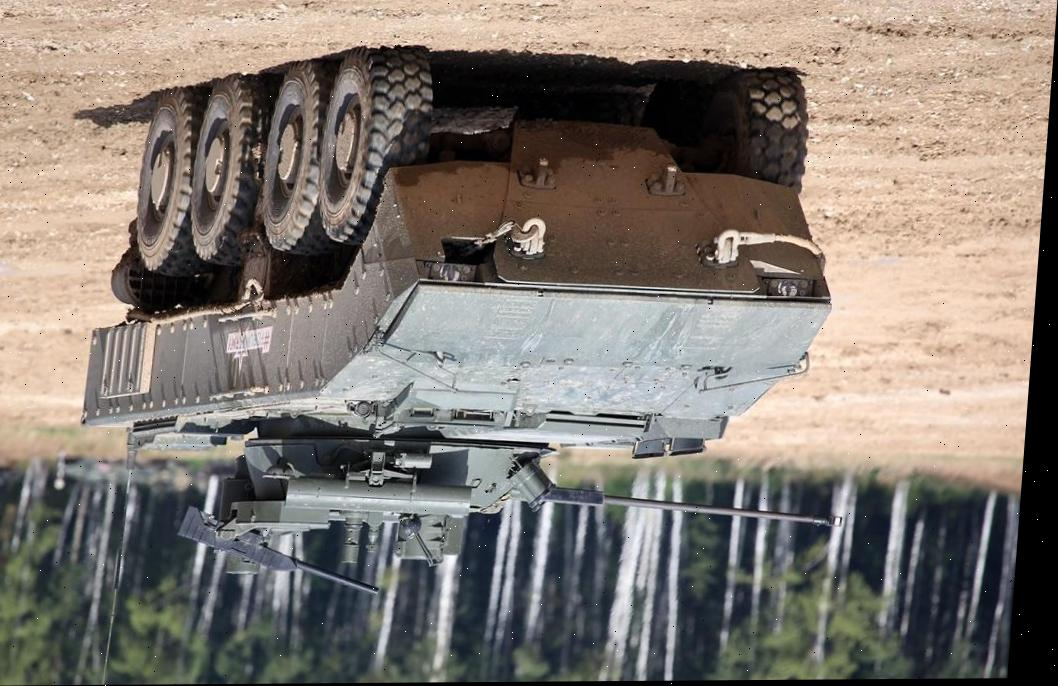tank: (64, 37, 883, 598)
